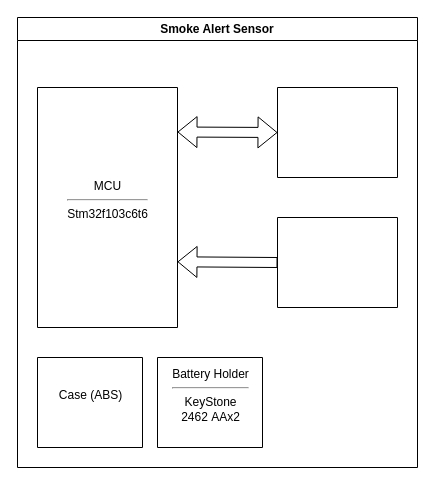
This 435x485 diagram has some shape labels left out. Each missing label, with the centre of its shape:
"Dust Sensor GP2Y1014AU0F" belongs at (x=337, y=262).
"LoRa E220-900M22S" belongs at (x=337, y=132).
